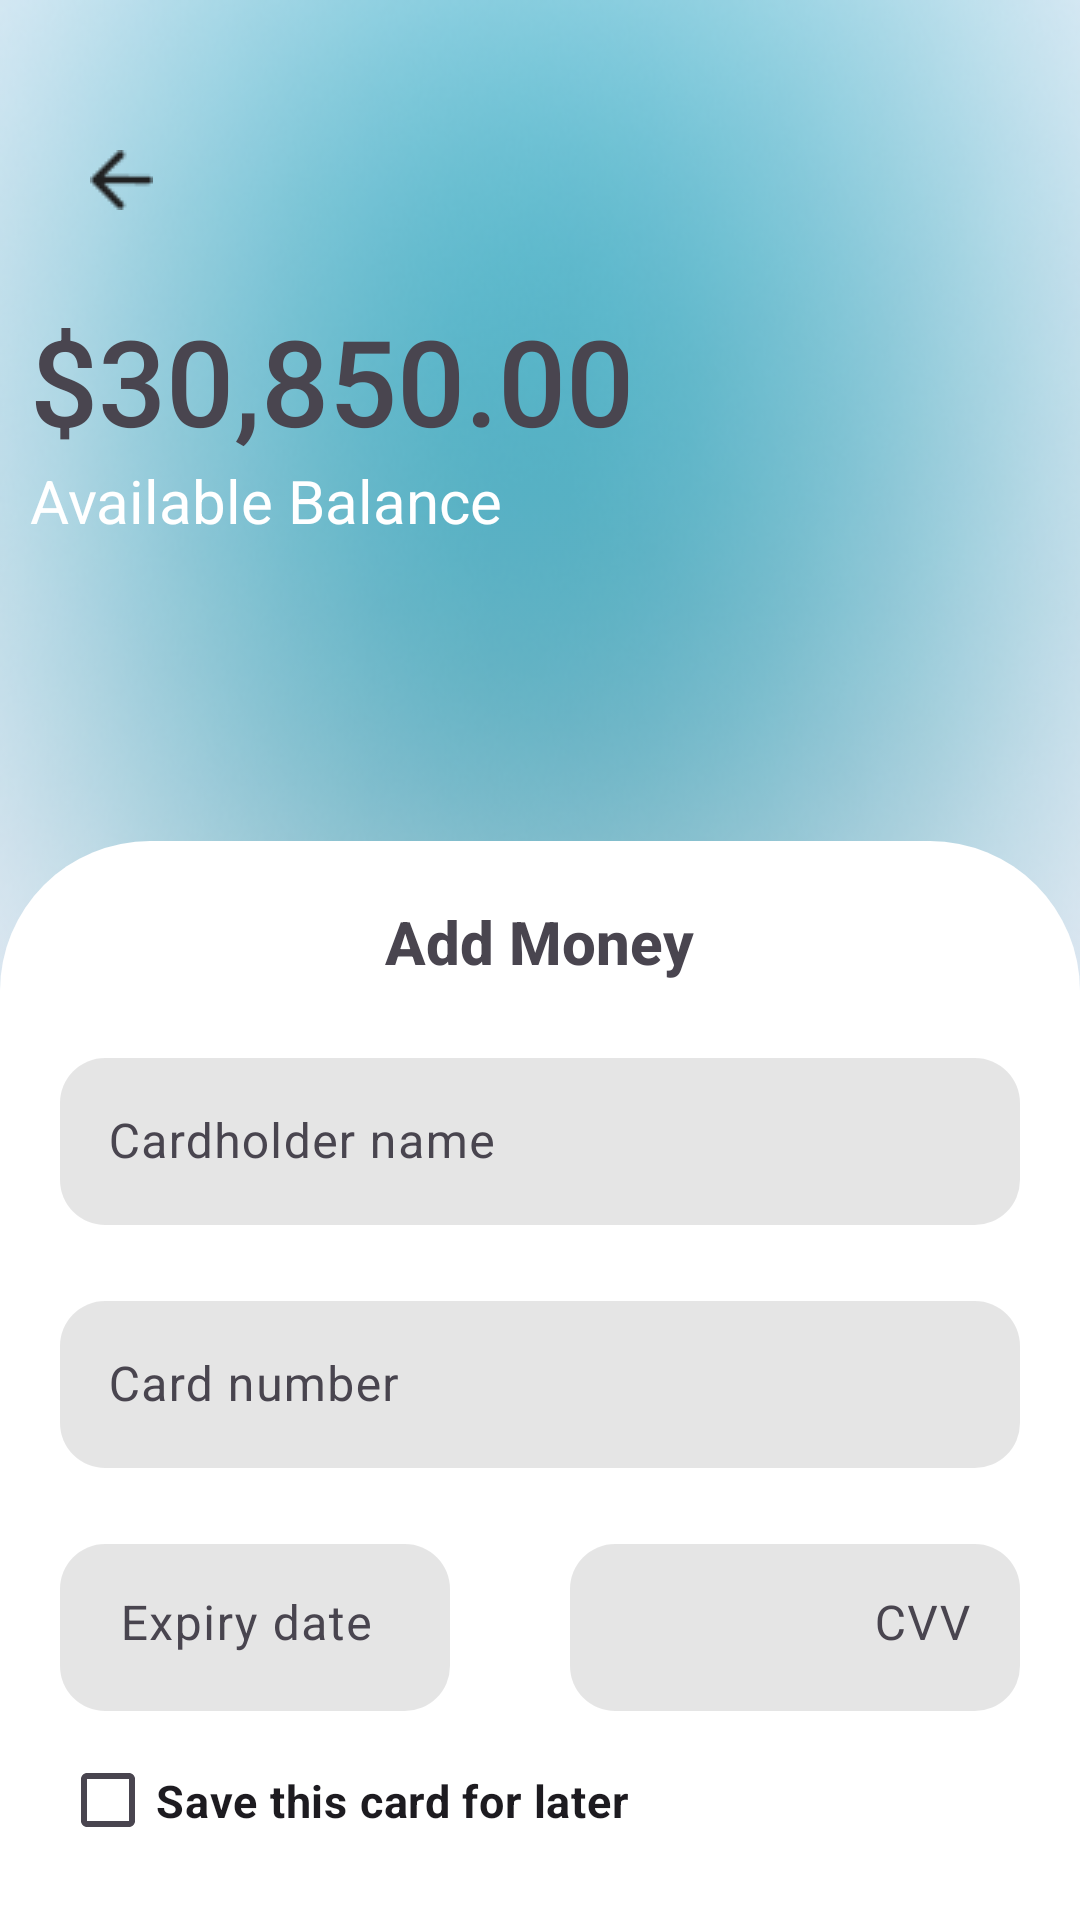

Screen size 1080px×1920px. Icon name, then its center in pixels as [x,y]:
back: [136,180]
